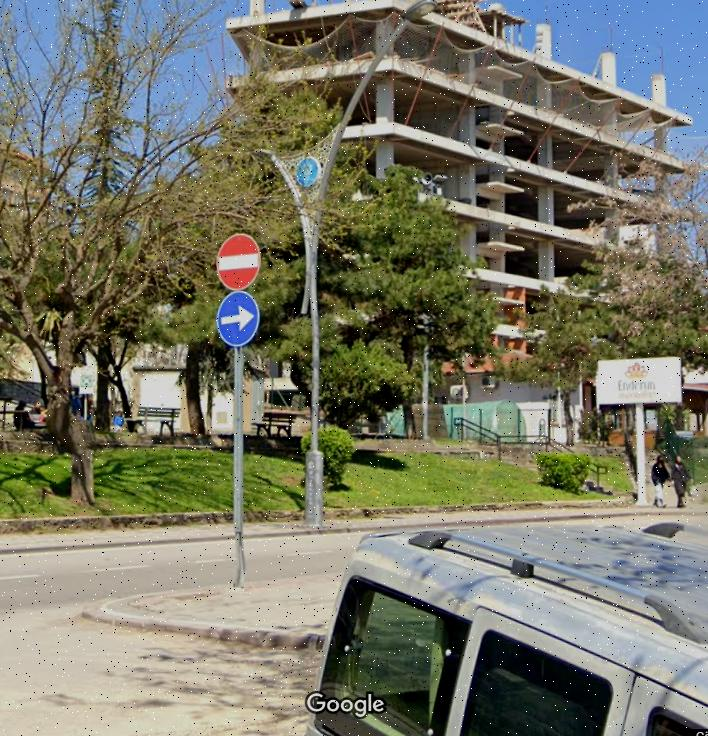turnright: (217, 291, 262, 345)
